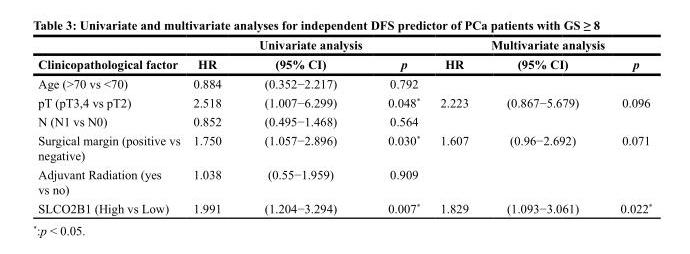table: (37, 37, 651, 214)
table column: (37, 37, 185, 214), (242, 37, 361, 214), (486, 37, 598, 214), (361, 37, 429, 214), (185, 37, 242, 214), (429, 37, 486, 214), (598, 37, 651, 214)
table column header: (37, 37, 651, 73)
table row: (37, 130, 651, 164), (37, 164, 651, 198), (37, 54, 651, 73), (37, 73, 651, 92), (37, 92, 651, 111), (37, 111, 651, 130), (37, 37, 651, 54), (37, 198, 651, 214)
table spanning cell: (37, 37, 185, 73), (185, 37, 429, 54), (429, 37, 651, 54)
